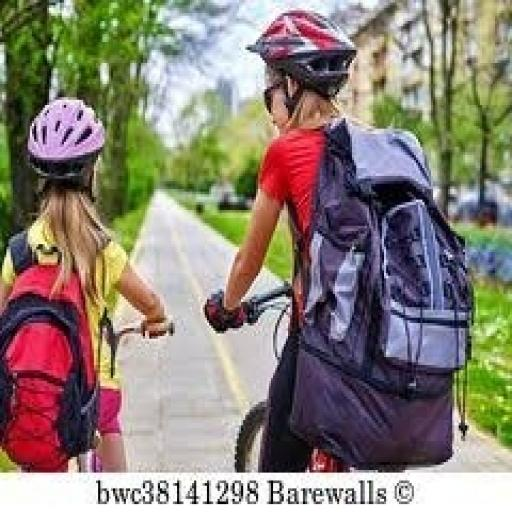cycling: (200, 8, 476, 472), (0, 94, 175, 472)
